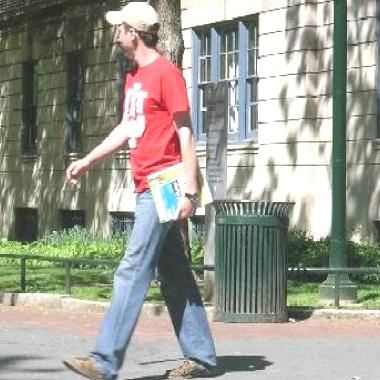ped: (62, 3, 221, 380)
